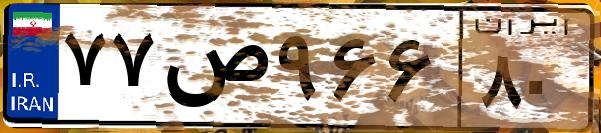0: (525, 38, 570, 115)
6: (385, 28, 445, 110), (330, 28, 385, 110)
7: (57, 26, 110, 100), (110, 28, 158, 98)
8: (475, 38, 525, 113)
9: (270, 28, 330, 110)
ص: (158, 20, 270, 120)
